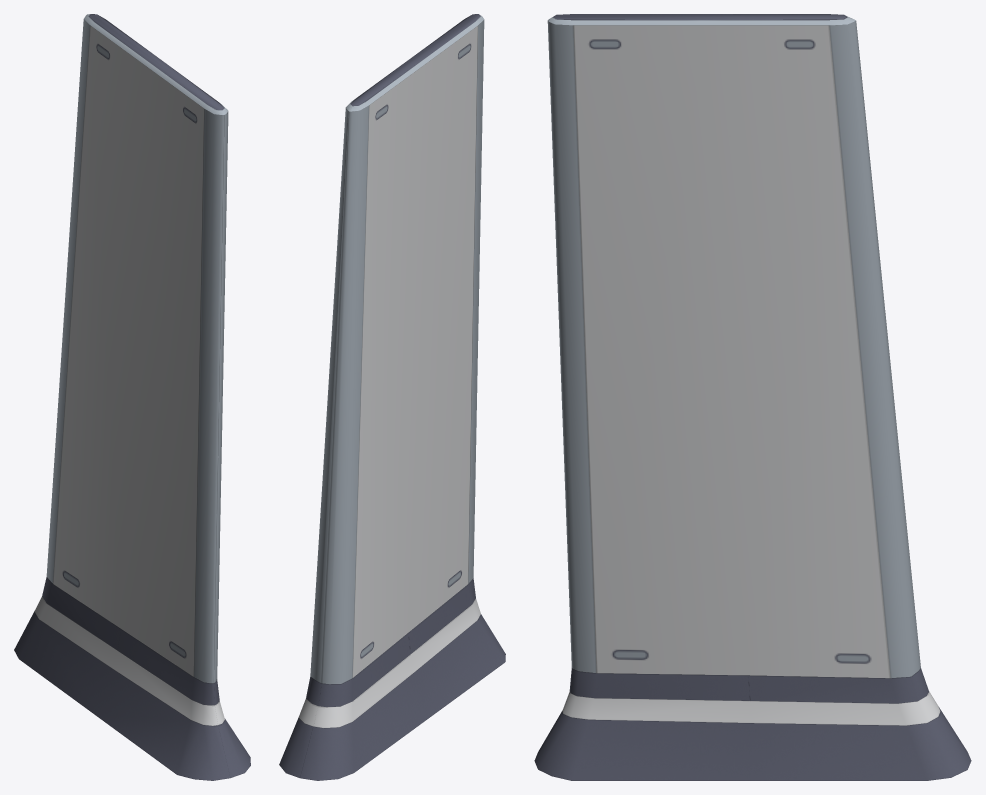
Rendered from Wing_03.FBX.
3 views of the same model, side by side, from view 1: azimuth 30°, elevation 25°; view 2: azimuth 150°, elevation 25°; view 3: azimuth 270°, elevation 25° (orthographic). The views are drawn at different scales.
Parts seen in each view (by area): view 1: Wing_03; view 2: Wing_03; view 3: Wing_03.
Boxes of the visible parts, x1=… form: Wing_03: x1=14, y1=14, x2=250, y2=780; Wing_03: x1=279, y1=14, x2=505, y2=780; Wing_03: x1=534, y1=14, x2=971, y2=780.
Bounding box in the file's own units: 0.8727 × 7.52 × 4.
